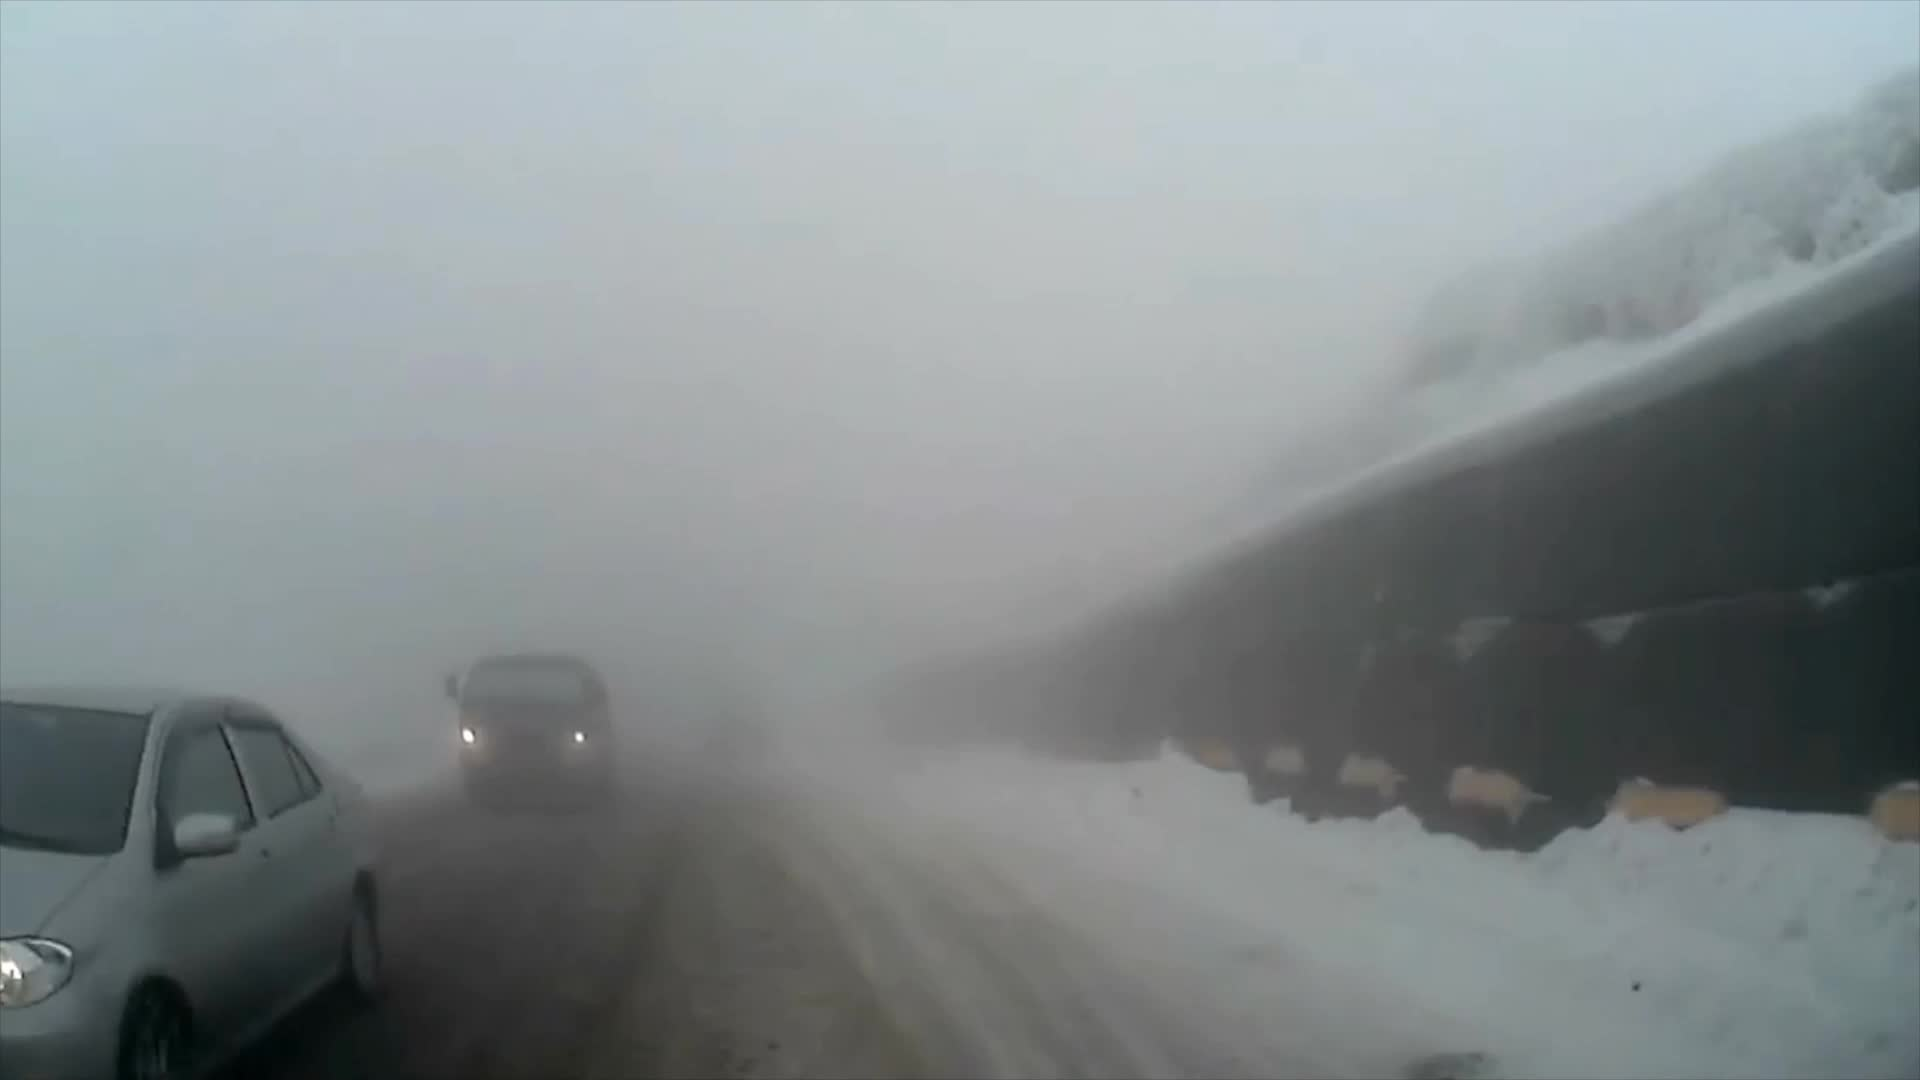vehicle: (0, 678, 385, 1080), (440, 647, 618, 804)
